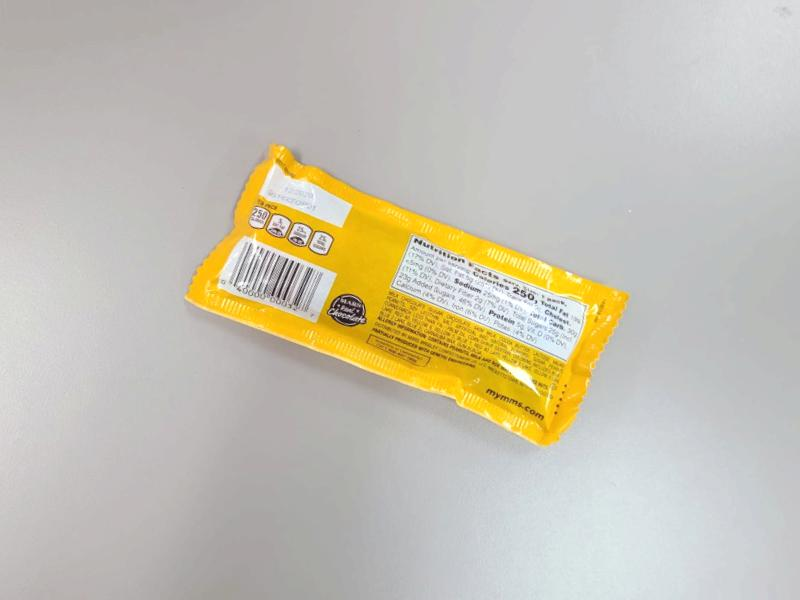m&m: (171, 152, 640, 460)
